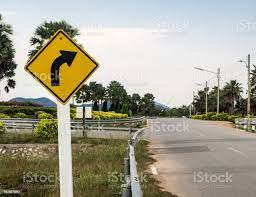right turn: (28, 30, 100, 104)
